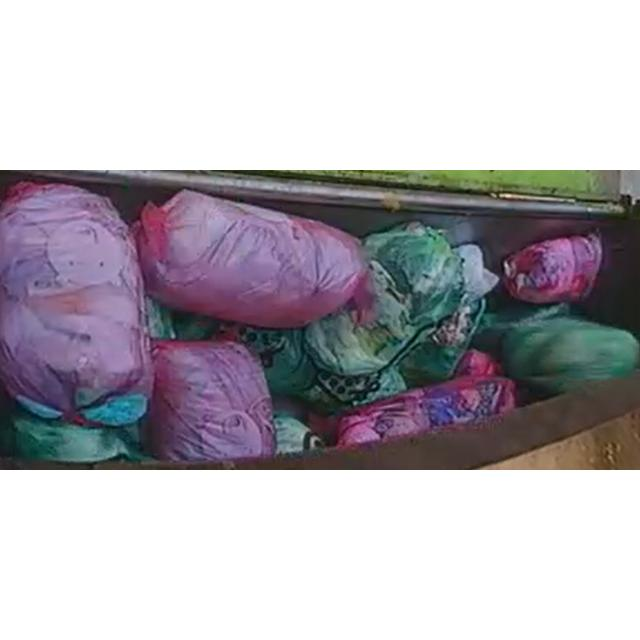general_trashbag: (305, 222, 464, 375), (400, 246, 498, 386), (239, 326, 406, 406), (501, 316, 639, 403)
other_trashbag: (0, 182, 152, 425), (136, 190, 365, 328), (149, 341, 275, 461), (338, 376, 515, 448), (502, 234, 602, 303)
